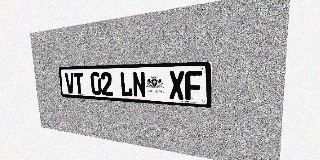0: (90, 72, 102, 95)
2: (101, 72, 113, 96)
F: (185, 71, 202, 101)
L: (120, 72, 133, 97)
N: (132, 71, 146, 98)
T: (73, 72, 84, 94)
V: (65, 72, 75, 94)
X: (169, 71, 185, 100)
